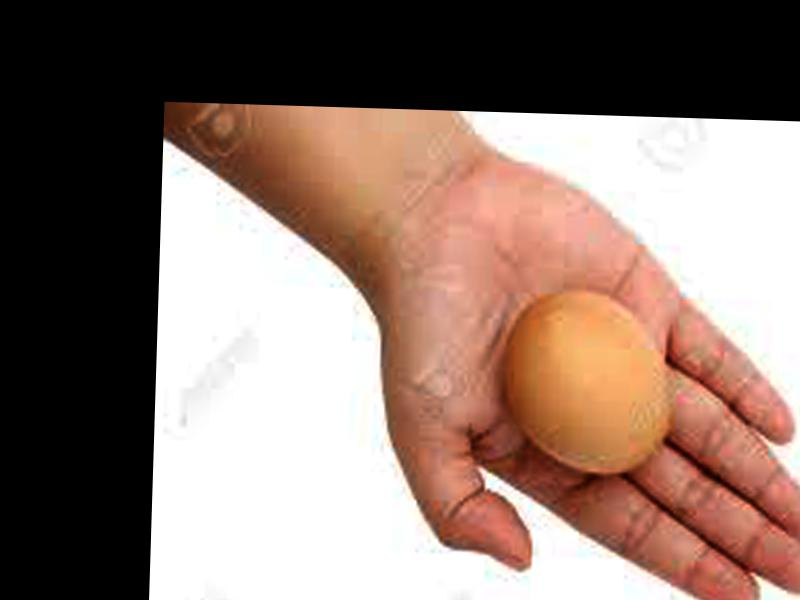Eggs: (498, 288, 670, 474)
